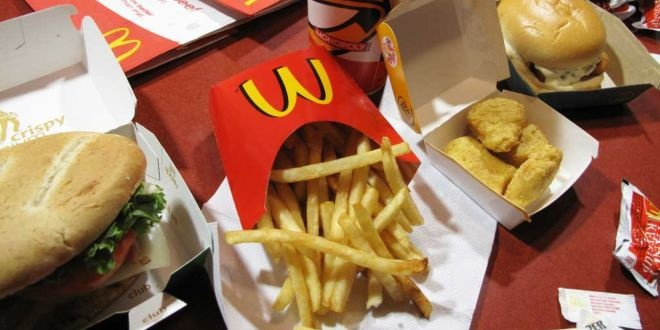mcdonalds: (236, 52, 341, 116)
